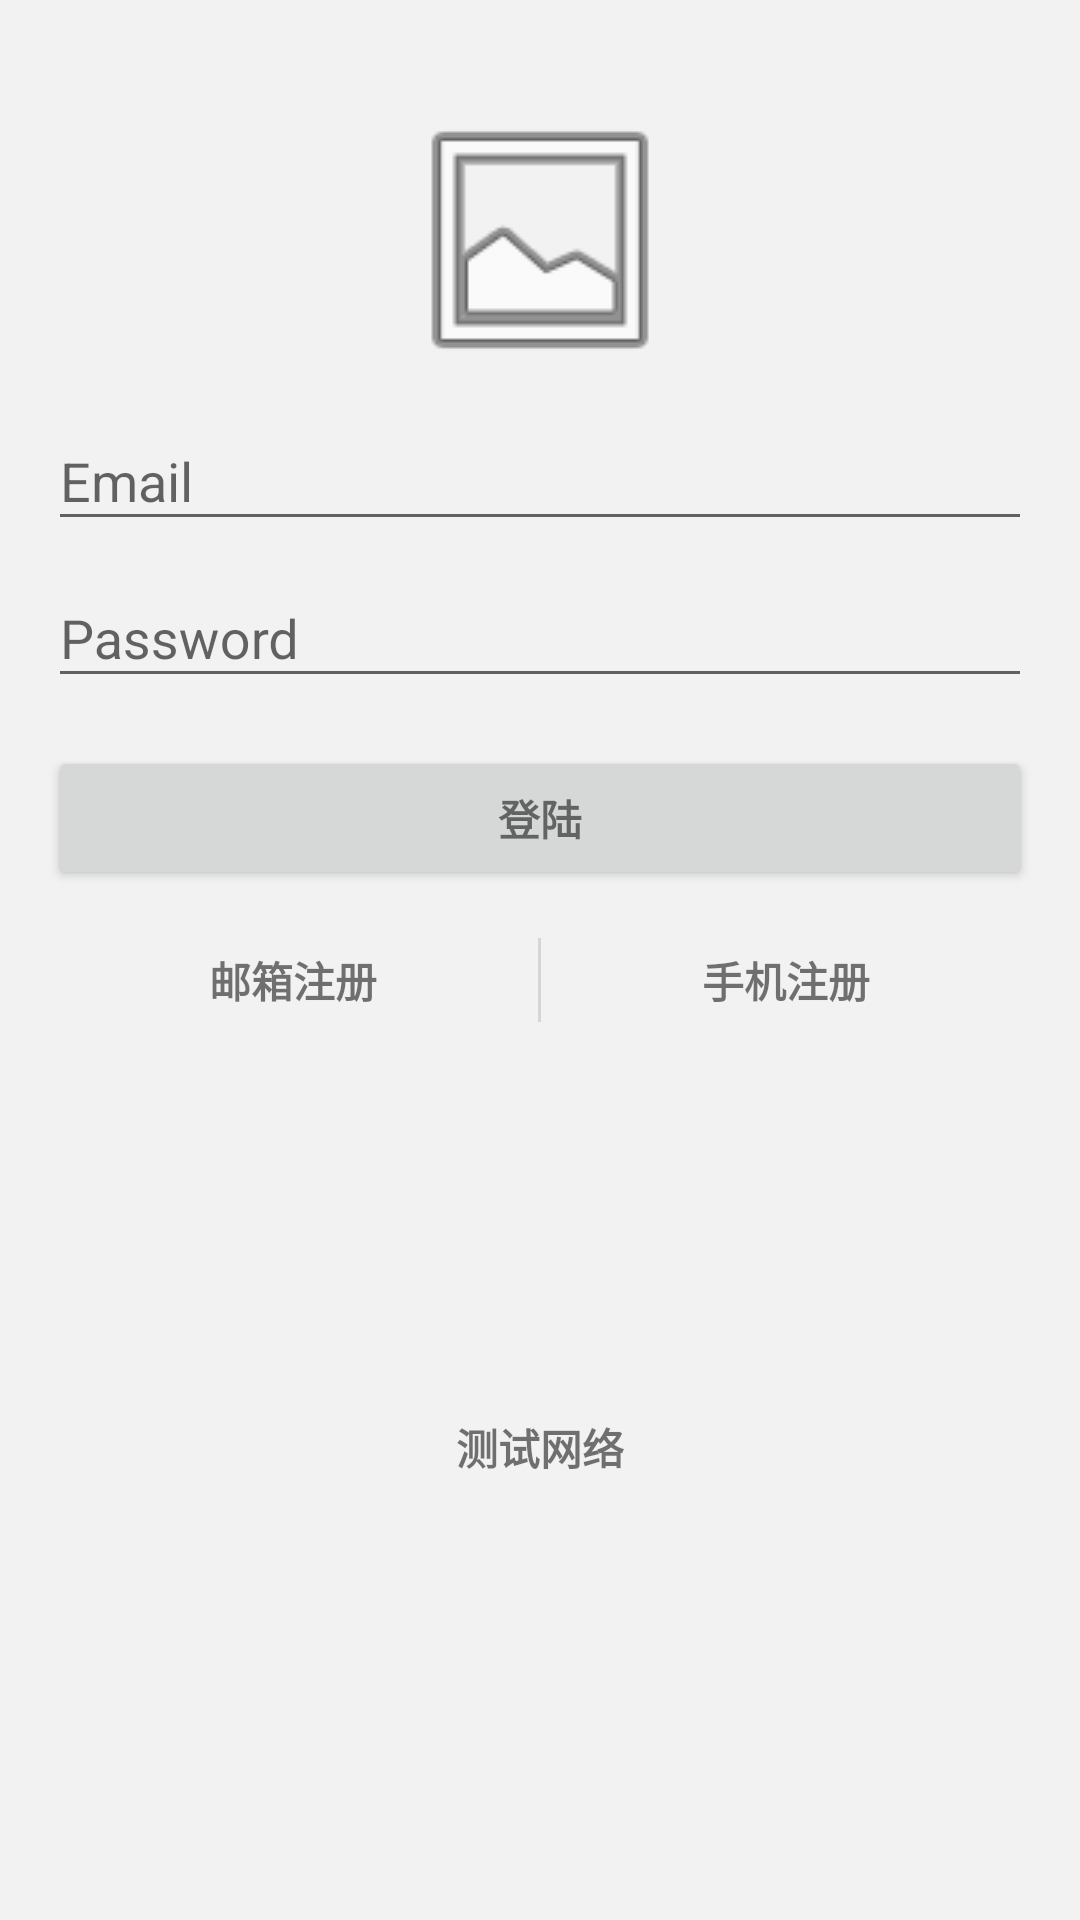

Icon click points for this 1080w x 1920h phone screenshot, format (x=x, y=y):
gallery: (x=540, y=240)
